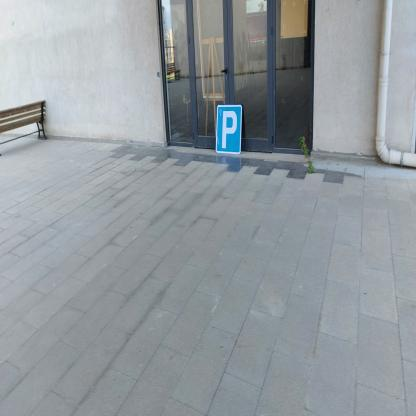Parking-Sign: (216, 104, 243, 155)
